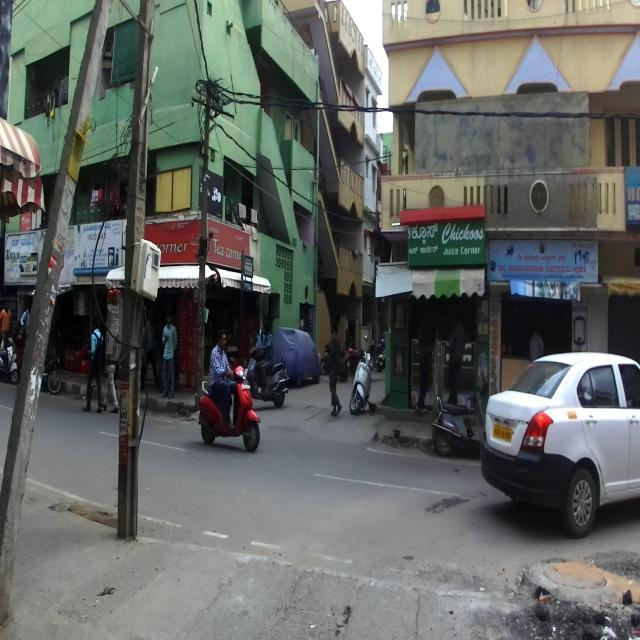Car: (271, 323, 322, 387)
Car_Maruti-Suzuki: (480, 351, 640, 538)
scooter: (198, 356, 261, 452), (431, 382, 489, 457), (243, 336, 289, 408), (348, 334, 374, 414)
